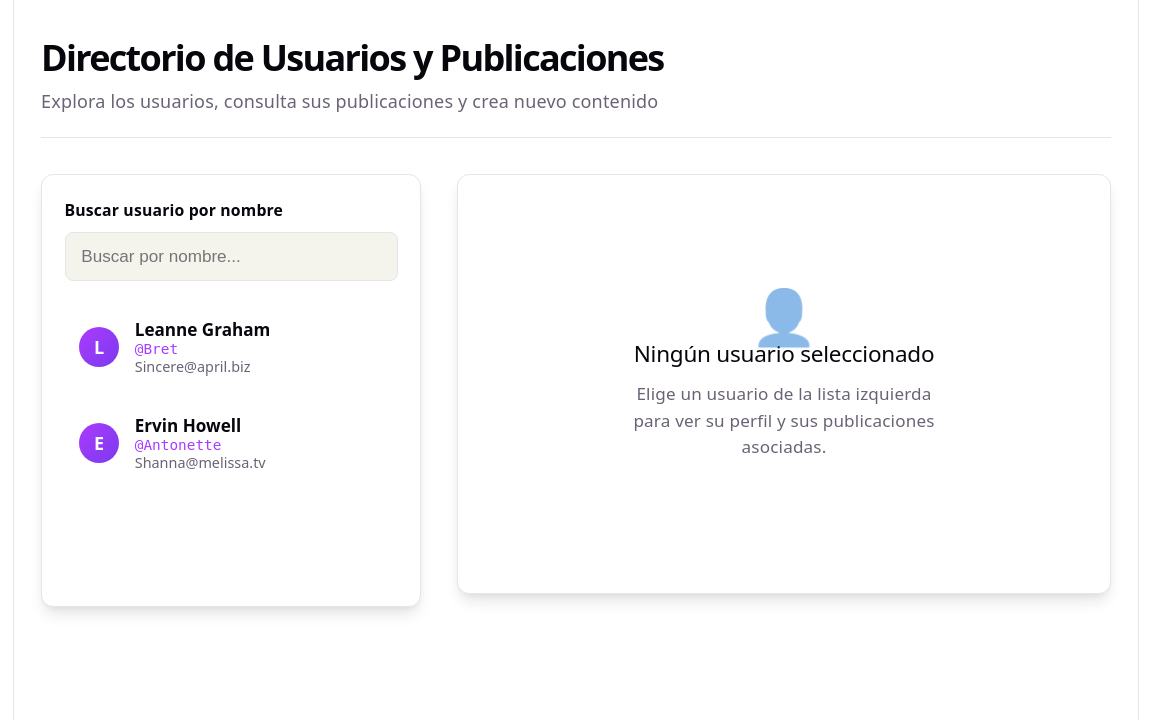
Scenario: App component (Integration) › crea una nueva publicación y la agrega al principio de la lista
Expected: the text "Leanne Graham" is shown, [135,318,270,341]
Click the button "L Leanne Graham @Bret Sincere@april.biz". click: click(99, 347)
box: [64,304,393,391]
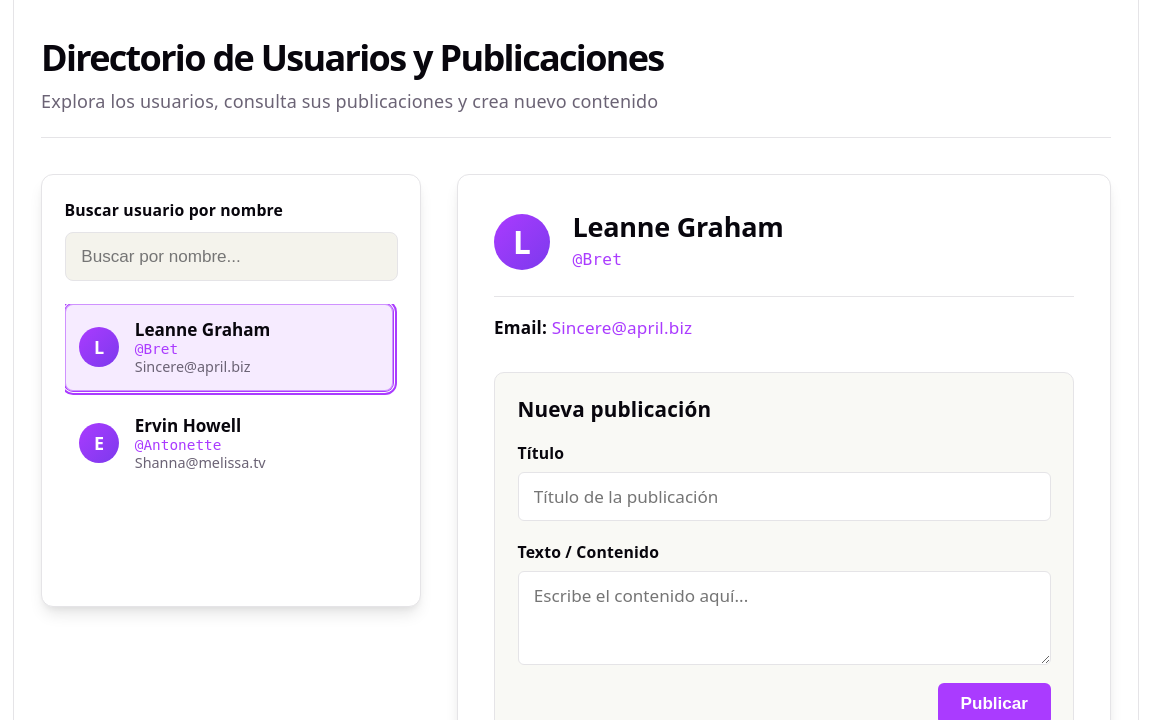
Type "Post Creado Recientemente" into the field labelled "Título". click: (784, 496)
box: [518,472,1050,521]
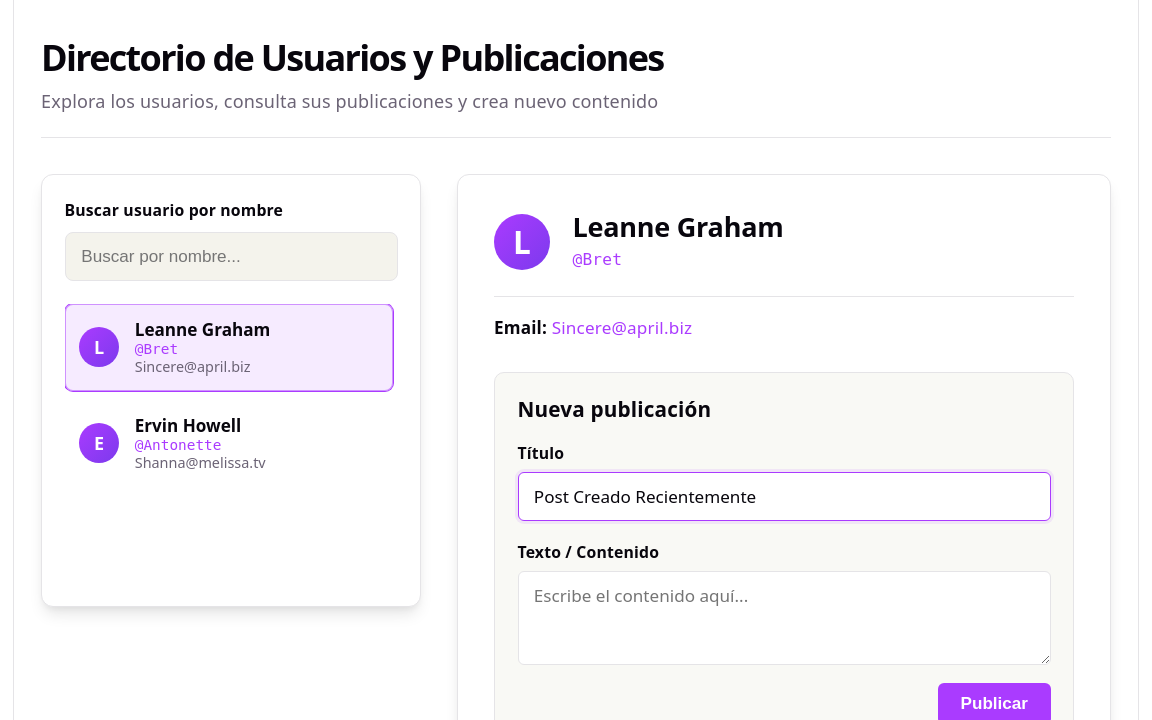
Type "Contenido recién publicado" into the text box labelled "Texto / Contenido". click: (784, 618)
box: [518,571,1050,666]
(page scrolled)
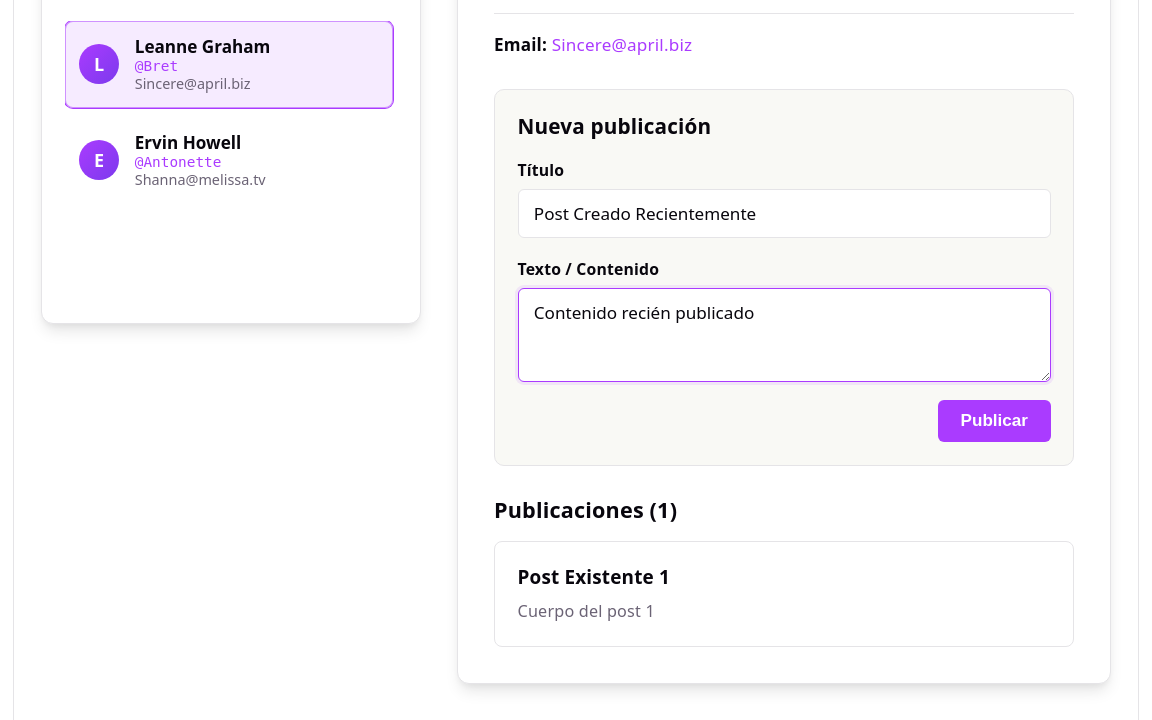
Click the button "Publicar". click: click(994, 421)
box: [938,400,1050,442]
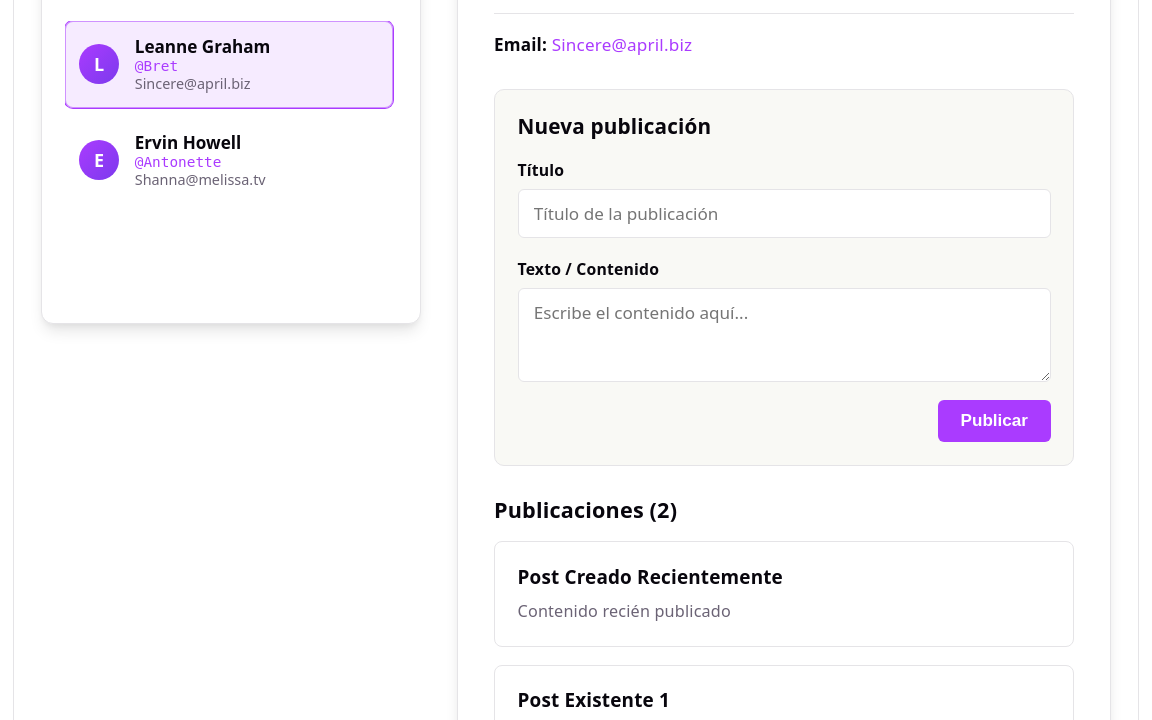
Expected: the heading "Post Existente 1" is shown, [518,688,670,714]
Expected: the heading "Post Creado Recientemente" is shown, [518,564,783,590]
Expected: the text "Contenido recién publicado" is shown, [518,600,731,622]
